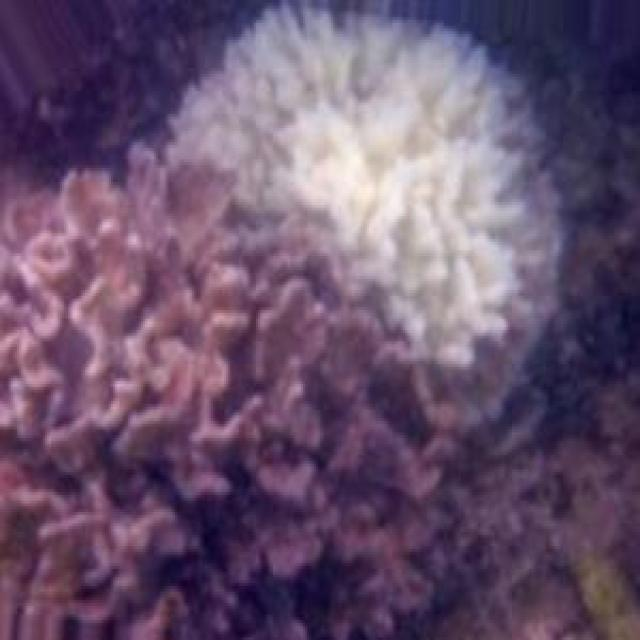Bleached: (172, 12, 556, 425)
Healthy: (22, 200, 494, 640), (155, 257, 423, 539)
